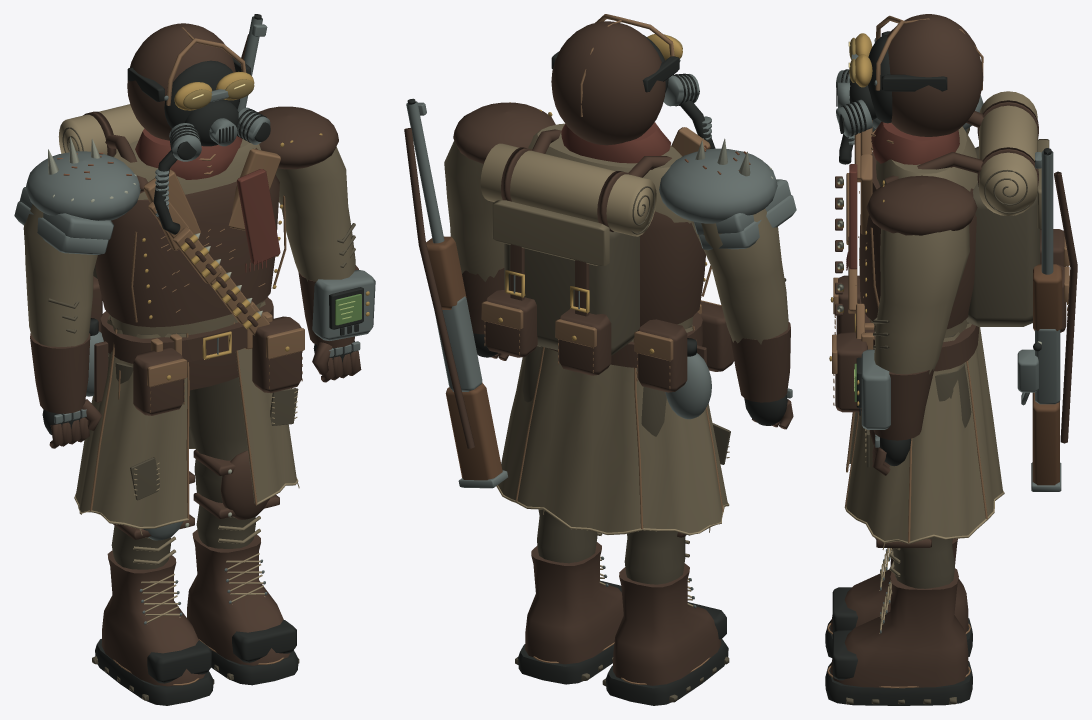
File: wasteland_ranger.obj
3 renders of one model, left to right at view 1: azimuth 30°, elevation 25°; view 2: azimuth 150°, elevation 25°; view 3: azimuth 270°, elevation 25°, orthographic. The views are drawn at different scales.
Visible parts, largest first — view 1: ranger_leather_0, ranger_canvas_0, ranger_steel_0, ranger_rubber_0, ranger_canvas_dark_0, ranger_leather_edge_0, ranger_scarf_0, ranger_canvas_light_0, ranger_brass_0, ranger_glass_0, ranger_steel_edge_0, ranger_screen_0; view 2: ranger_leather_0, ranger_canvas_0, ranger_steel_0, ranger_canvas_dark_0, ranger_canvas_light_0, ranger_rubber_0, ranger_leather_edge_0, ranger_wood_0, ranger_scarf_0, ranger_brass_0; view 3: ranger_leather_0, ranger_canvas_0, ranger_canvas_dark_0, ranger_rubber_0, ranger_steel_0, ranger_canvas_light_0, ranger_leather_edge_0, ranger_wood_0, ranger_scarf_0, ranger_brass_0.
Boxes of the visible parts, x1,y1,x2,y2 form: ranger_leather_0: (30, 23, 361, 686); ranger_canvas_0: (23, 139, 355, 564); ranger_steel_0: (14, 16, 375, 624); ranger_rubber_0: (42, 14, 363, 705); ranger_canvas_dark_0: (48, 127, 355, 700); ranger_leather_edge_0: (89, 27, 304, 685); ranger_scarf_0: (135, 128, 280, 272); ranger_canvas_light_0: (58, 104, 299, 623); ranger_brass_0: (142, 71, 369, 380); ranger_glass_0: (183, 79, 254, 109); ranger_steel_edge_0: (48, 136, 262, 527); ranger_screen_0: (335, 294, 361, 325); ranger_leather_0: (404, 21, 793, 685); ranger_canvas_0: (444, 123, 788, 557); ranger_steel_0: (406, 59, 796, 608); ranger_canvas_dark_0: (504, 186, 786, 702); ranger_canvas_light_0: (480, 143, 729, 606); ranger_rubber_0: (407, 35, 787, 705); ranger_leather_edge_0: (481, 14, 723, 684); ranger_wood_0: (426, 236, 502, 480); ranger_scarf_0: (561, 122, 670, 163); ranger_brass_0: (498, 34, 707, 353); ranger_leather_0: (830, 14, 1077, 687); ranger_canvas_0: (846, 126, 1049, 576); ranger_canvas_dark_0: (846, 146, 1040, 704); ranger_rubber_0: (825, 31, 1051, 705); ranger_steel_0: (836, 38, 1061, 633); ranger_canvas_light_0: (844, 91, 1037, 633); ranger_leather_edge_0: (827, 15, 1069, 688); ranger_wood_0: (1032, 264, 1062, 485); ranger_scarf_0: (846, 121, 959, 270); ranger_brass_0: (829, 33, 884, 405).
Size of the model in its own units: 1.18 by 2.19 by 0.7723.
